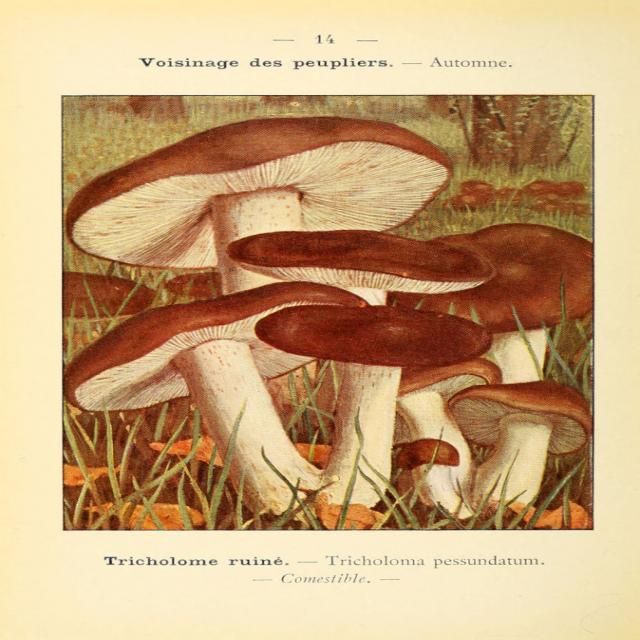Mushroom: (63, 114, 595, 530), (255, 305, 494, 508)
